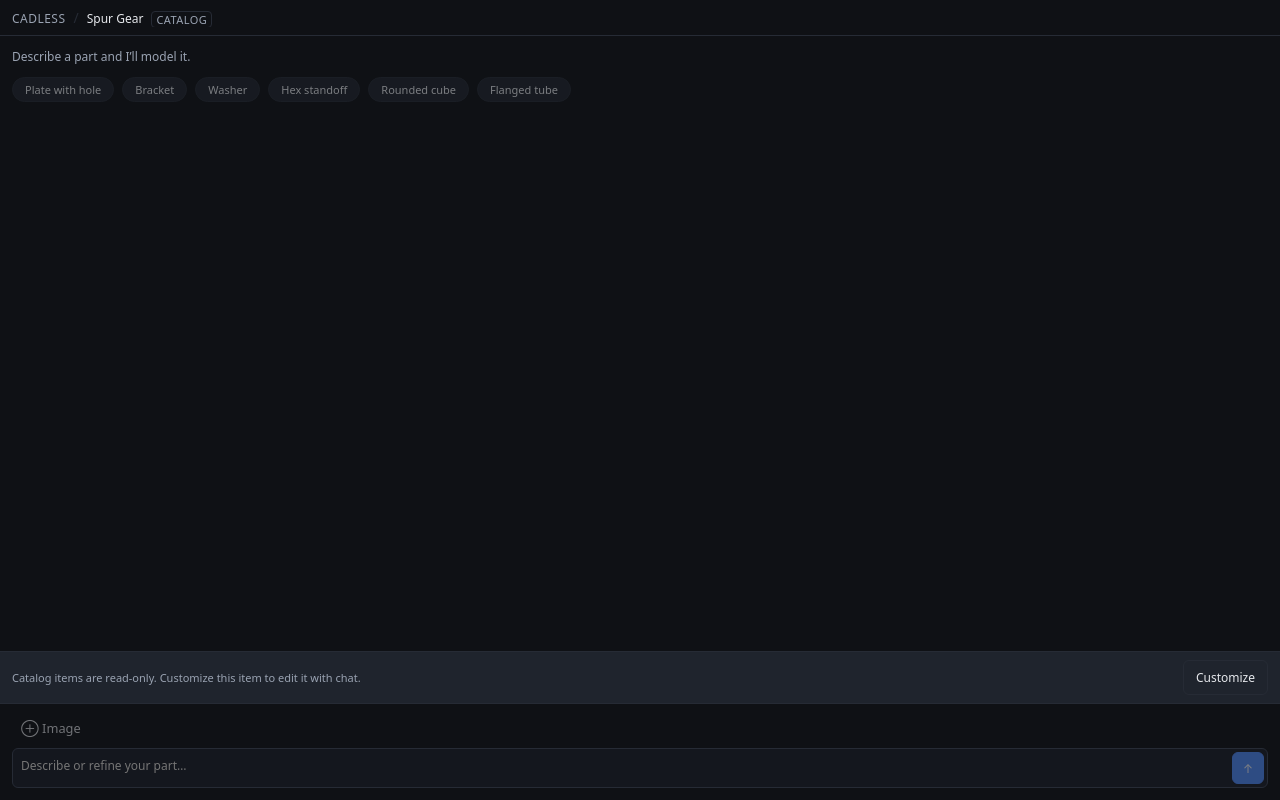
Test: ChatPanel › drops the note and hands chat back once the clone is in place
This screenshot has width=1280, height=800.
Click the button "Customize" at point(1225, 678), box 1183,660 -> 1268,695
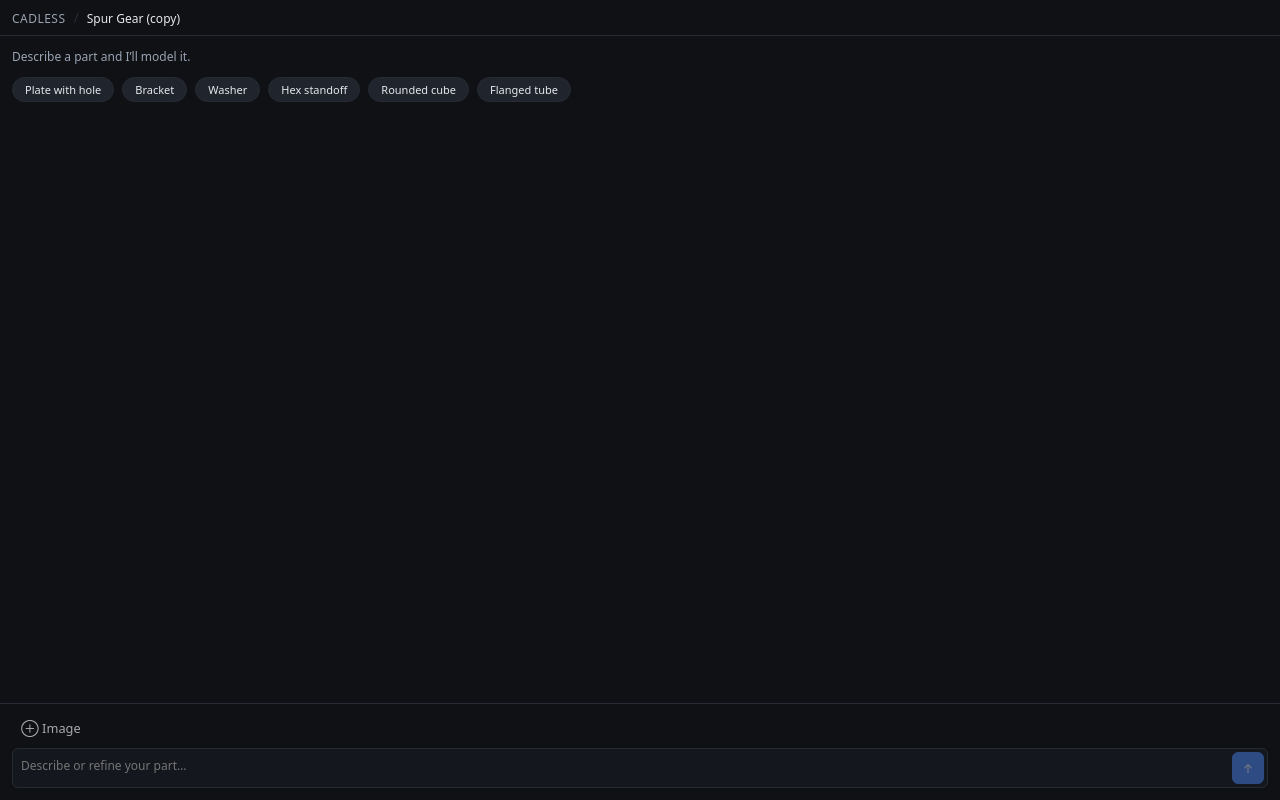
Expected: the text box with placeholder "Describe or refine your part…" is enabled, 12,748 -> 1268,788
Expected: the element with class "chat-readonly-note" is gone
